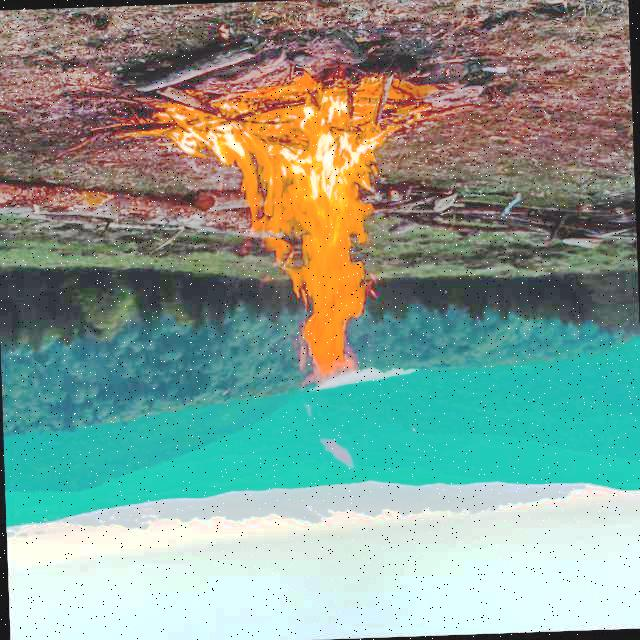api: (143, 67, 441, 409)
